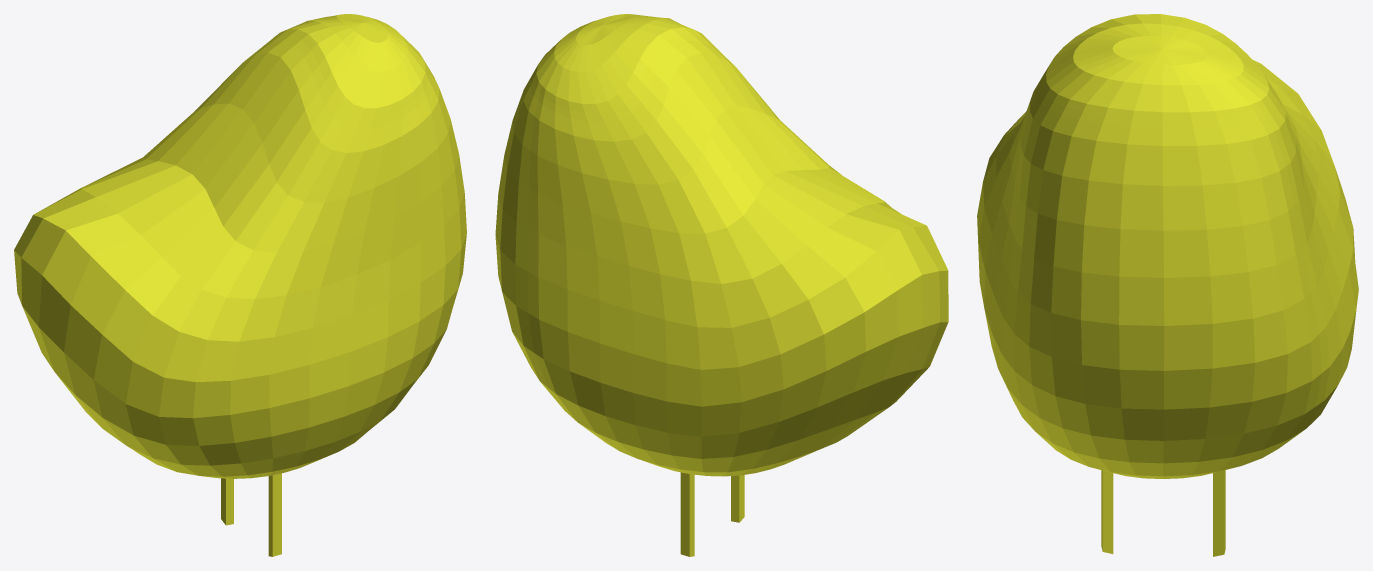
The model's file is hiyoko.fbx.
3 views of the same model, side by side, from view 1: azimuth 30°, elevation 25°; view 2: azimuth 150°, elevation 25°; view 3: azimuth 270°, elevation 25° (orthographic). The views are drawn at different scales.
Parts seen in each view (by area): view 1: 球; view 2: 球; view 3: 球.
Part boxes in pixels (left/top/right/bottom): 球: left=14, top=14, right=466, bottom=556; 球: left=495, top=14, right=948, bottom=556; 球: left=977, top=14, right=1358, bottom=556.
Size of the model in its own units: 103 by 119 by 71.82.
